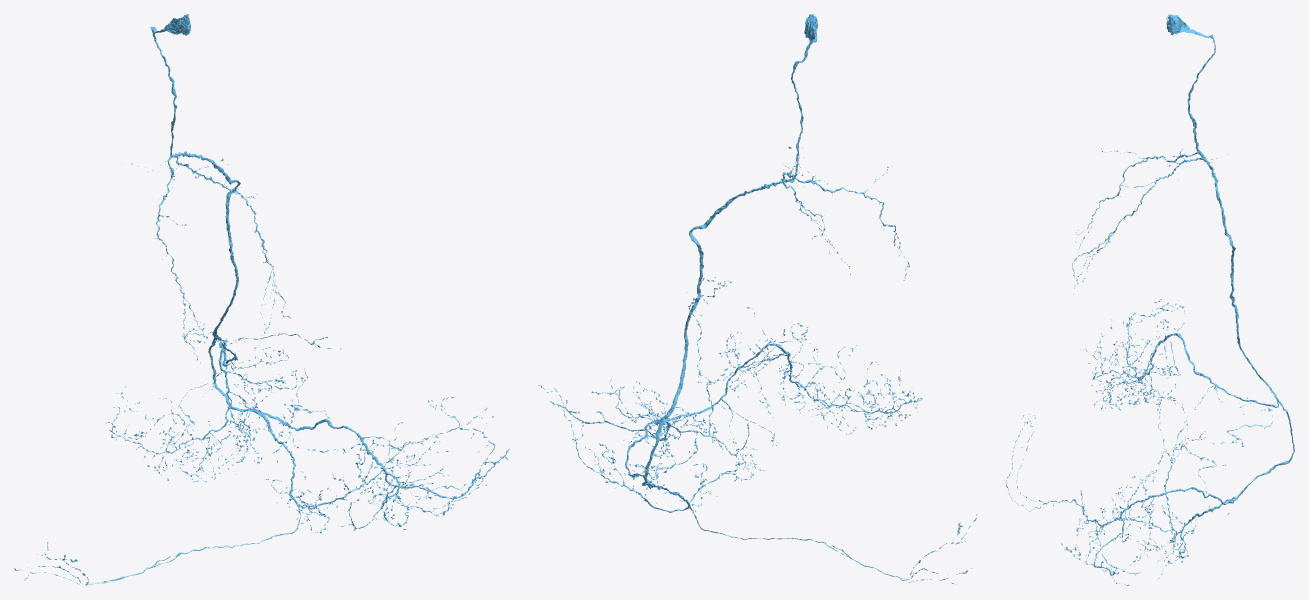
The model's file is VFB_00105yk4.glb.
The picture shows the model from 3 angles, left to right: view 1: azimuth 30°, elevation 25°; view 2: azimuth 150°, elevation 25°; view 3: azimuth 270°, elevation 25°; orthographic projection. The views are drawn at different scales.
Visible parts, largest first — view 1: VFB_00105yk4; view 2: VFB_00105yk4; view 3: VFB_00105yk4.
Boxes of the visible parts, box(x1,y1,x2,y2) form: VFB_00105yk4: box(14, 14, 509, 585); VFB_00105yk4: box(538, 14, 977, 584); VFB_00105yk4: box(1006, 14, 1294, 585).
Size of the model in its own units: 0.2073 by 0.2358 by 0.1265.
